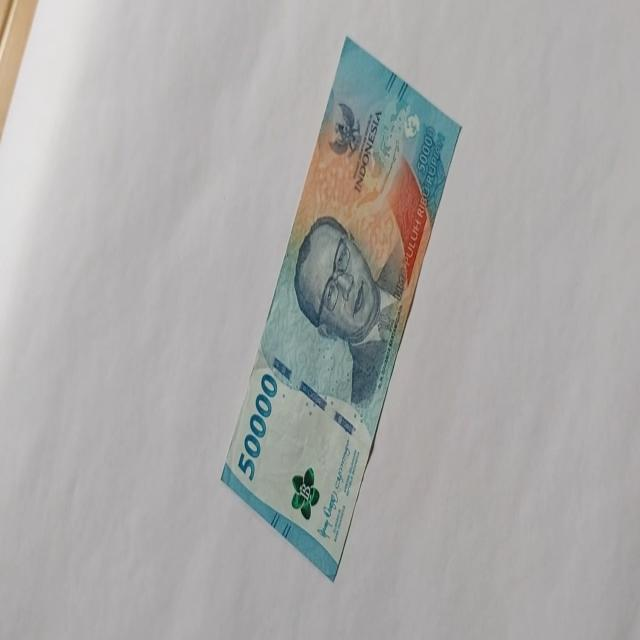lima puluh ribu rupiah: (220, 34, 462, 582), (292, 212, 407, 408), (236, 371, 278, 482)
